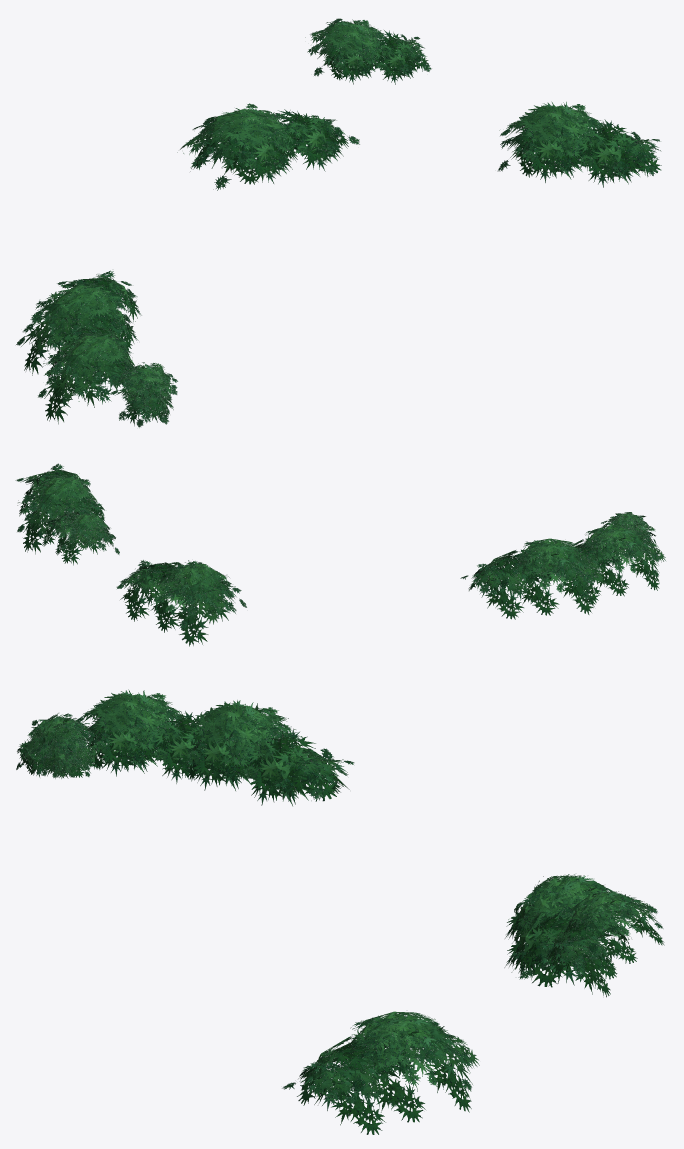
The model's file is Area_02_10.fbx.
The picture shows the model from 3 angles, top to bottom: view 1: azimuth 30°, elevation 25°; view 2: azimuth 150°, elevation 25°; view 3: azimuth 270°, elevation 25°; orthographic projection. The views are drawn at different scales.
Parts seen in each view (by area): view 1: Area_02_10; view 2: Area_02_10; view 3: Area_02_10.
Part boxes in pixels (x1=…): Area_02_10: x1=16, y1=18, x2=661, y2=427; Area_02_10: x1=15, y1=463, x2=665, y2=646; Area_02_10: x1=16, y1=689, x2=664, y2=1134.
Size of the model in its own units: 4108 by 730 by 2804.
